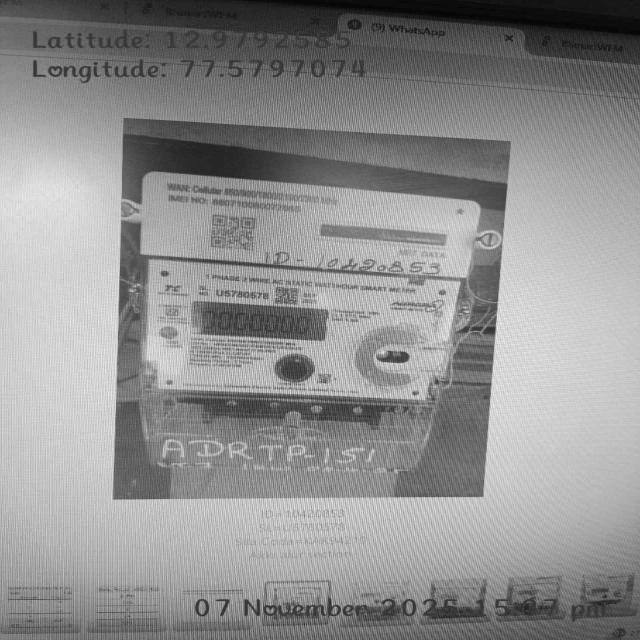meter: (142, 172, 481, 400)
